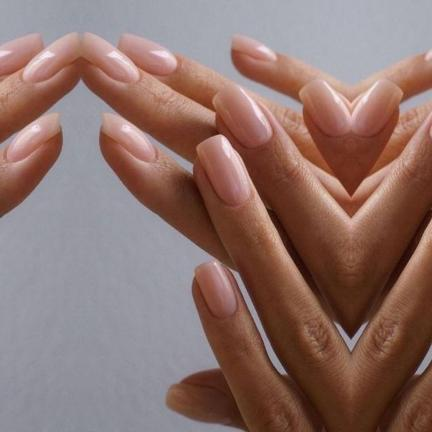Nail: (195, 135, 251, 206), (212, 83, 272, 147), (80, 32, 139, 83), (21, 32, 80, 83), (298, 79, 350, 136), (351, 79, 402, 136), (100, 112, 156, 162), (4, 112, 60, 162), (116, 33, 176, 76), (193, 259, 236, 318), (164, 384, 228, 423), (0, 33, 44, 76), (230, 34, 278, 62), (423, 48, 432, 62), (428, 121, 432, 139)
